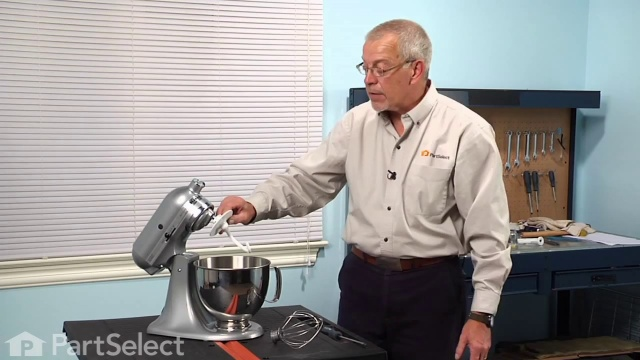person: (209, 16, 510, 359)
